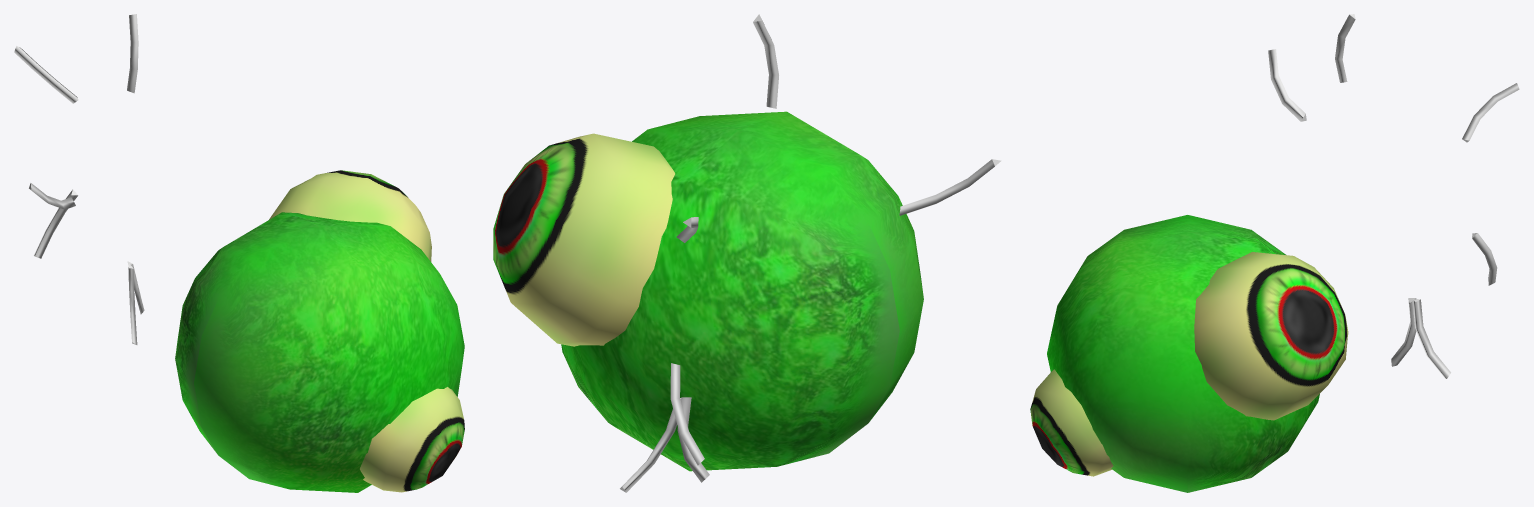
File: Mutant.FBX
3 renders of one model, left to right at view 1: azimuth 30°, elevation 25°; view 2: azimuth 150°, elevation 25°; view 3: azimuth 270°, elevation 25°, orthographic. The views are drawn at different scales.
Parts seen in each view (by area): view 1: Mut_Body, Mut_Eye_L, Mut_Eye_R, Mut_Hair; view 2: Mut_Body, Mut_Eye_R, Mut_Hair; view 3: Mut_Body, Mut_Eye_R, Mut_Eye_L, Mut_Hair.
Part boxes in pixels (bbox=[...]): Mut_Body: bbox=[175, 212, 464, 492]; Mut_Eye_L: bbox=[360, 387, 464, 492]; Mut_Eye_R: bbox=[269, 170, 431, 261]; Mut_Hair: bbox=[14, 14, 144, 344]; Mut_Body: bbox=[561, 111, 923, 471]; Mut_Eye_R: bbox=[493, 133, 675, 346]; Mut_Hair: bbox=[620, 14, 1001, 492]; Mut_Body: bbox=[1047, 215, 1319, 492]; Mut_Eye_R: bbox=[1194, 252, 1348, 420]; Mut_Eye_L: bbox=[1030, 369, 1113, 476]; Mut_Hair: bbox=[1268, 14, 1519, 378].
Bounding box in the file's own units: 315 × 334 × 356.
